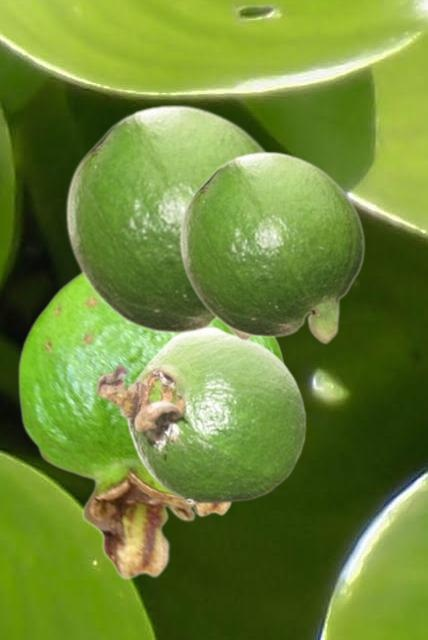guava: (17, 272, 227, 579), (64, 103, 267, 342), (95, 326, 307, 504), (178, 150, 364, 344), (195, 338, 284, 516)
